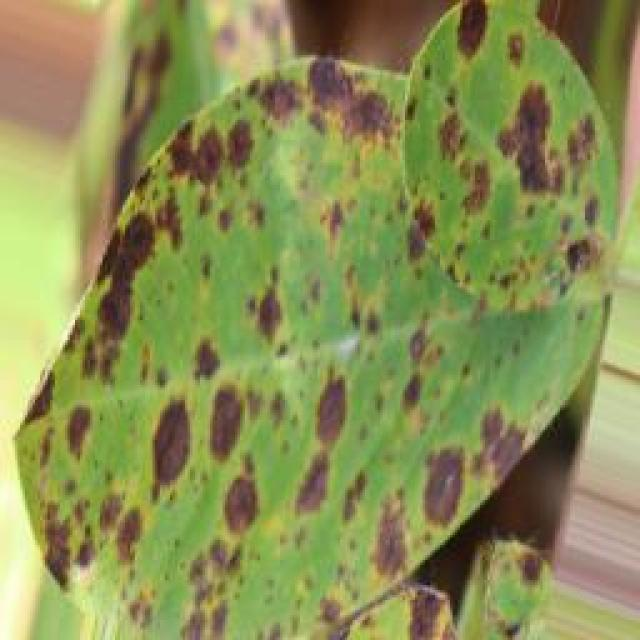Yellowish: (41, 4, 596, 617)
